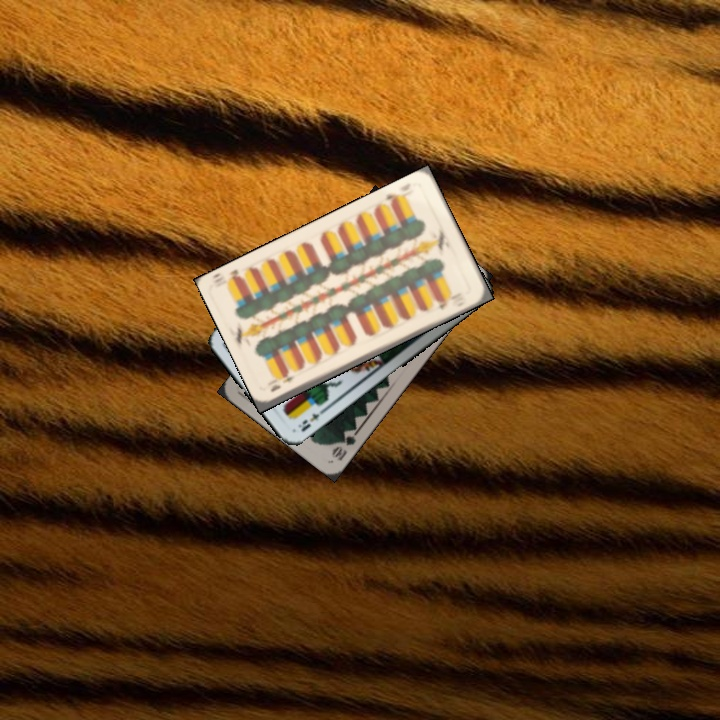E10: (266, 371, 298, 395), (381, 190, 404, 209)
EK: (294, 404, 329, 434)
G10: (327, 425, 360, 463)
